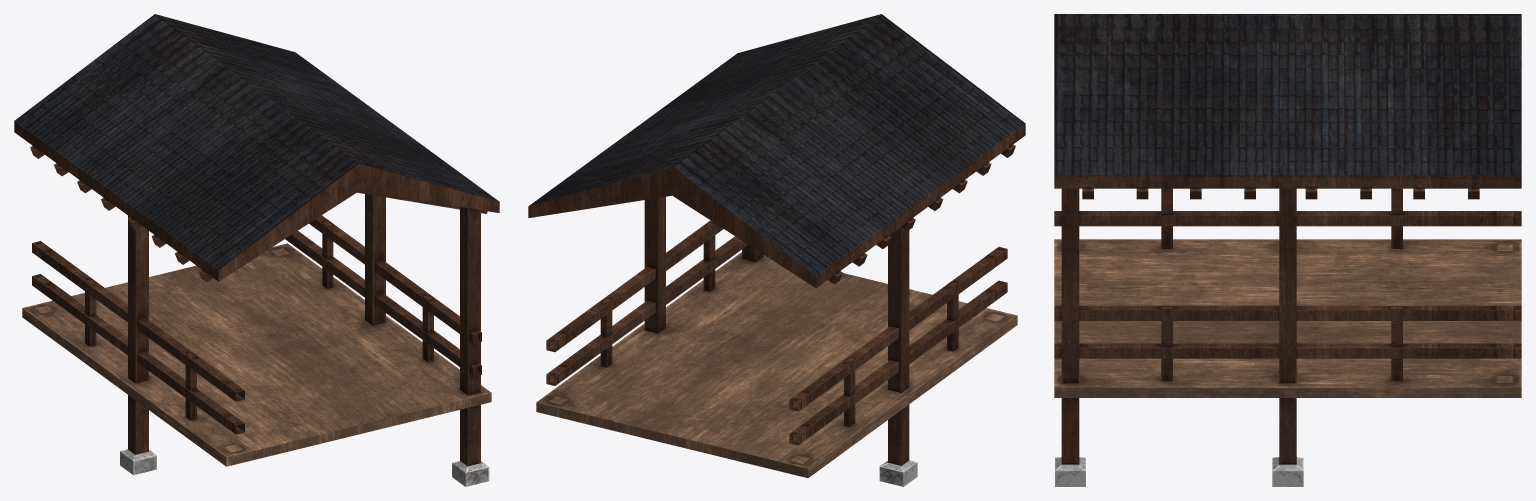
Rendered from NNJ0710003.fbx.
The picture shows the model from 3 angles, left to right: view 1: azimuth 30°, elevation 25°; view 2: azimuth 150°, elevation 25°; view 3: azimuth 270°, elevation 25°; orthographic projection. The views are drawn at different scales.
Parts seen in each view (by area): view 1: smNNJ0710003; view 2: smNNJ0710003; view 3: smNNJ0710003.
Boxes of the visible parts, <box> form: smNNJ0710003: <box>14,14,499,486</box>; smNNJ0710003: <box>528,14,1025,486</box>; smNNJ0710003: <box>1054,14,1521,486</box>.
Bounding box in the file's own units: 478 × 558 × 591.
Materials: 1 (1 with a texture image).
